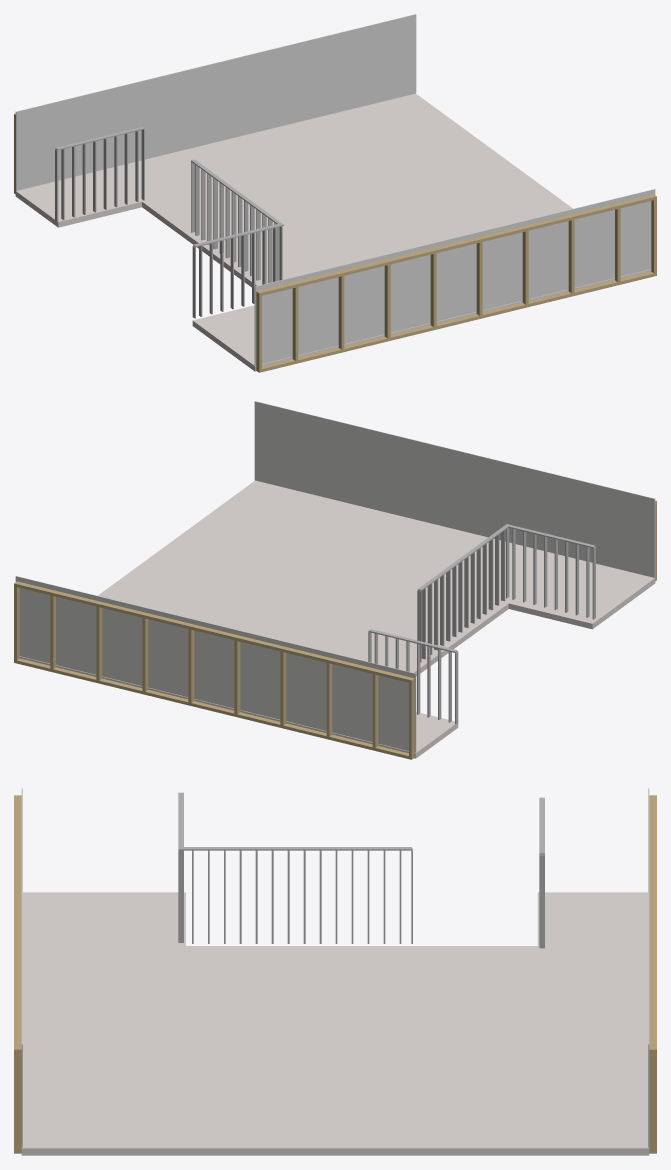
3 renders of one model, top to bottom at view 1: azimuth 30°, elevation 25°; view 2: azimuth 150°, elevation 25°; view 3: azimuth 270°, elevation 25°, orthographic. The views are drawn at different scales.
Parts seen in each view (by area): view 1: [3333145]43_zandcementvloer_70, [3333126]met beplating, [3333127]met beplating, [3333129]34_railing_spijlen, [3333136]34_railing_spijlen; view 2: [3333145]43_zandcementvloer_70, [3333127]met beplating, [3333126]met beplating, [3333129]34_railing_spijlen, [3333136]34_railing_spijlen; view 3: [3333145]43_zandcementvloer_70, [3333129]34_railing_spijlen, [3333126]met beplating, [3333127]met beplating, [3333136]34_railing_spijlen.
Part boxes in pixels (box(x1,y1,x2,y2)): [3333145]43_zandcementvloer_70: box(15, 93, 651, 371); [3333126]met beplating: box(254, 189, 656, 372); [3333127]met beplating: box(14, 14, 416, 194); [3333129]34_railing_spijlen: box(191, 159, 283, 318); [3333136]34_railing_spijlen: box(55, 126, 144, 221); [3333145]43_zandcementvloer_70: box(19, 480, 655, 758); [3333127]met beplating: box(14, 576, 416, 759); [3333126]met beplating: box(254, 401, 656, 581); [3333129]34_railing_spijlen: box(417, 524, 595, 662); [3333136]34_railing_spijlen: box(368, 629, 458, 724); [3333145]43_zandcementvloer_70: box(21, 892, 649, 1155); [3333129]34_railing_spijlen: box(178, 792, 412, 943); [3333126]met beplating: box(14, 788, 22, 1153); [3333127]met beplating: box(648, 788, 656, 1153); [3333136]34_railing_spijlen: box(539, 797, 544, 948).
Bounding box in the file's own units: 5.31 × 1.07 × 5.63.
